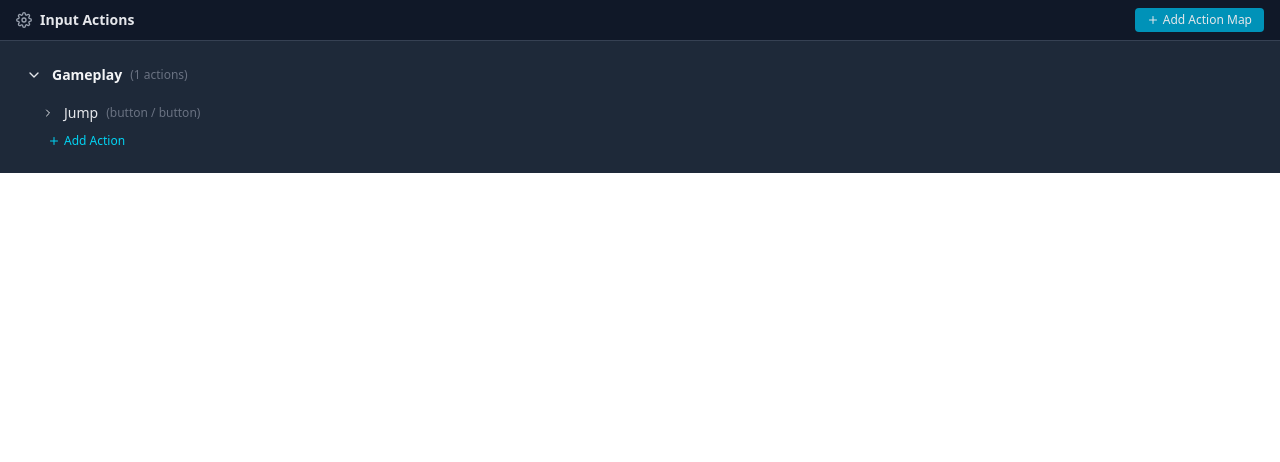
Test: InputActionsEditor › Properties Panel › should show action properties when action is selected
This screenshot has width=1280, height=462.
// Select the action
Click the text "Jump".
click(81, 113)  # box [64,103,98,123]
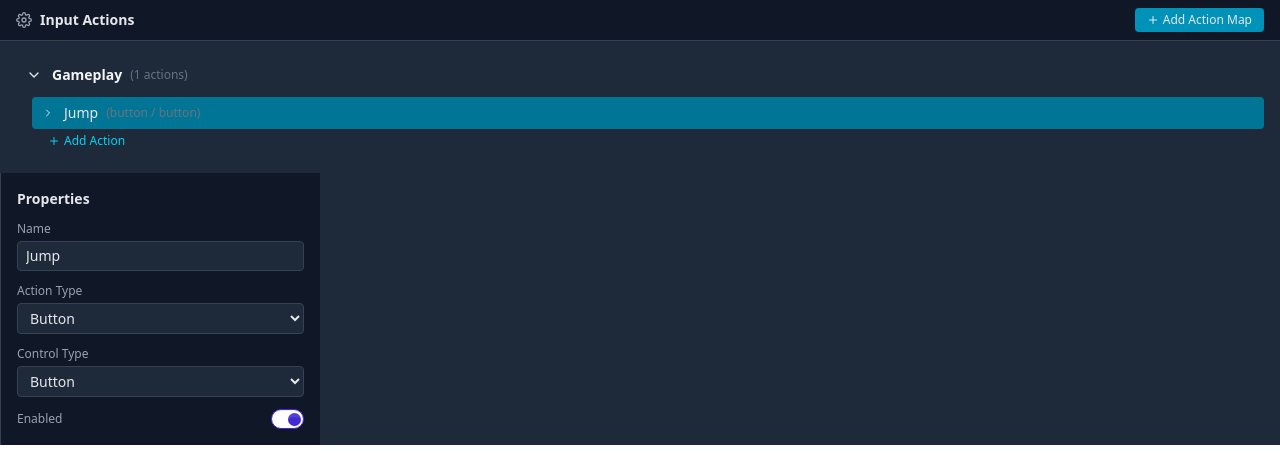
Check: the heading "Properties" is shown, box [17,189,90,208]
Check: the field showing "Jump" is shown, box [17,241,304,271]
